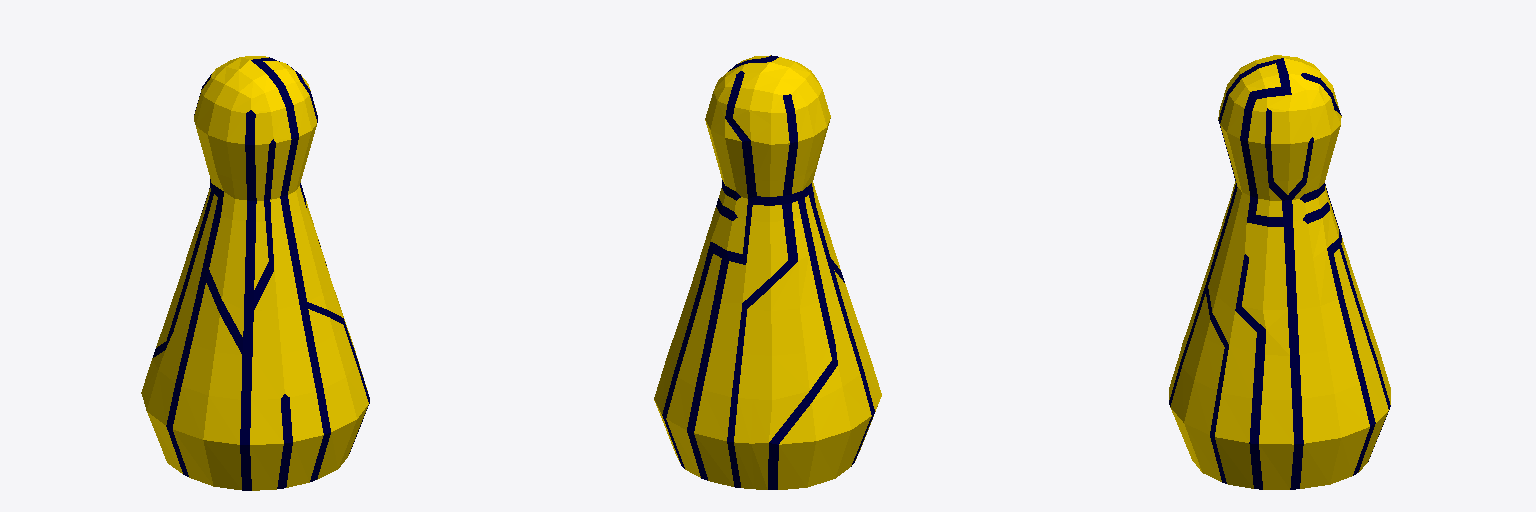
The model's file is chipyellow.obj.
3 renders of one model, left to right at view 1: azimuth 30°, elevation 25°; view 2: azimuth 150°, elevation 25°; view 3: azimuth 270°, elevation 25°, orthographic.
Parts seen in each view (by area): view 1: Куб.007_Куб.009; view 2: Куб.007_Куб.009; view 3: Куб.007_Куб.009.
Part boxes in pixels (left/top/right/bottom): Куб.007_Куб.009: left=141, top=56, right=369, bottom=490; Куб.007_Куб.009: left=654, top=55, right=881, bottom=489; Куб.007_Куб.009: left=1169, top=55, right=1390, bottom=489.
Bounding box in the file's own units: 0.2349 × 0.4544 × 0.234.